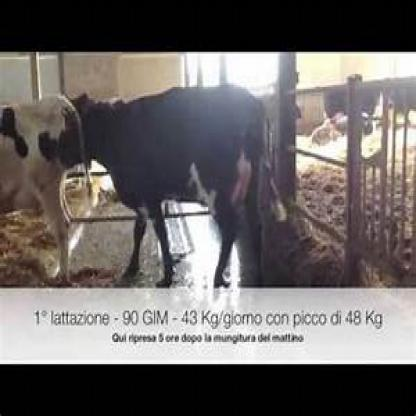cow: (64, 85, 286, 287), (0, 96, 92, 279)
